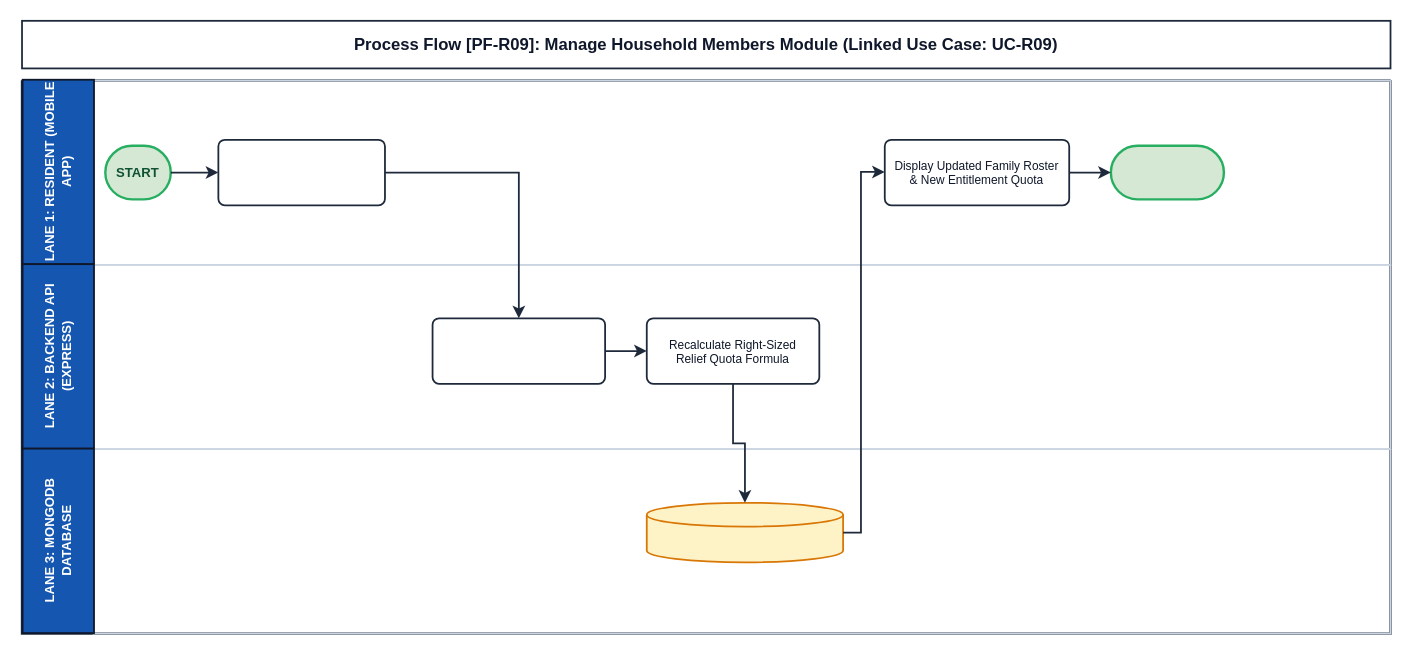
Image size: 1411x656. Some labels were removed from this diagram. Here are the shapes that lost their labels. From the top down, the box of each, then its label:
(217, 138, 385, 206): Edit Member Details (Age, PWD, Senior Flag)
(1109, 144, 1225, 200): END (Synced)
(431, 317, 605, 384): PUT /api/households/me/members Roster Update Payload
(645, 501, 843, 563): MongoDB: Update Household.members & Adjusted Ration Packs
